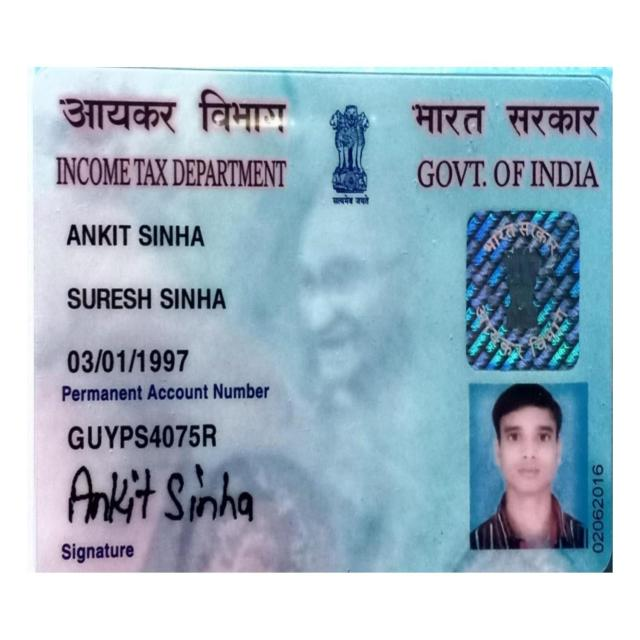pan_card: (39, 74, 609, 568)
